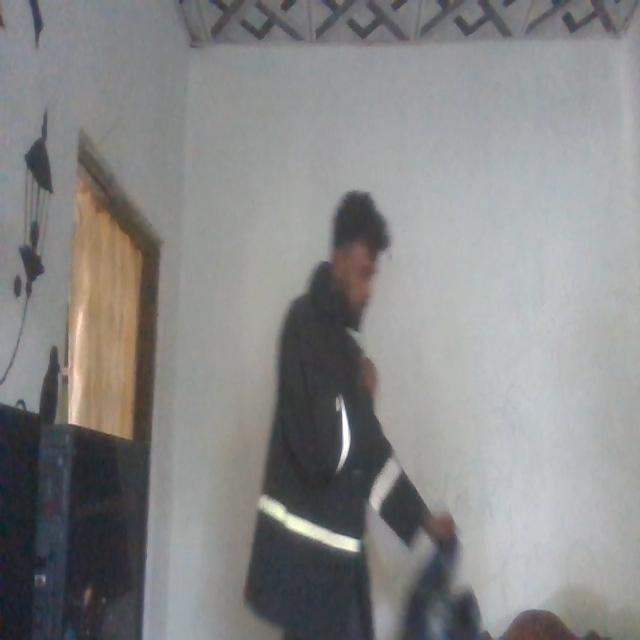Jacket_Wearer: (249, 281, 417, 640)
Person: (241, 170, 437, 640)
